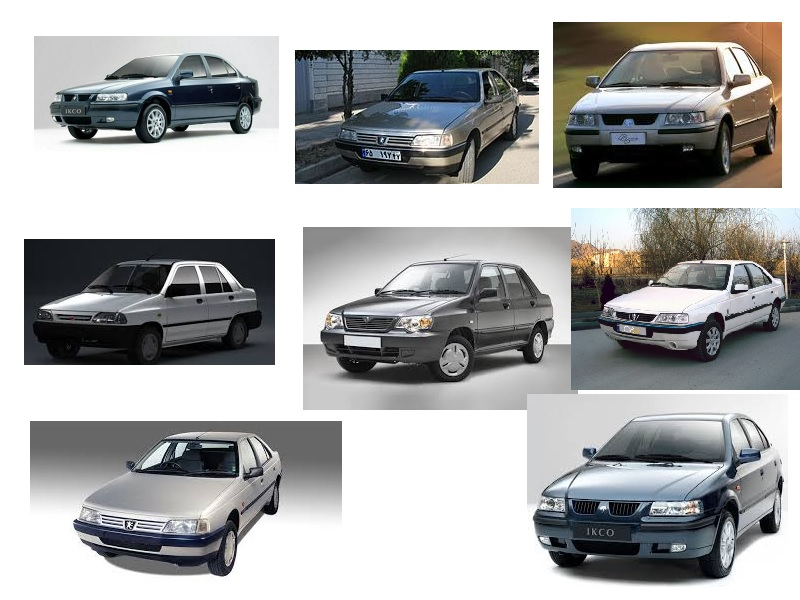peugeot: (60, 429, 284, 577), (338, 62, 523, 185), (596, 252, 787, 367)
pride: (324, 254, 555, 386), (35, 253, 266, 362)
samand: (530, 412, 789, 583), (566, 34, 780, 181), (33, 40, 264, 148)
